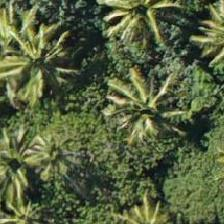coconut_tree: (105, 60, 195, 150), (103, 0, 193, 48), (0, 0, 46, 89)
